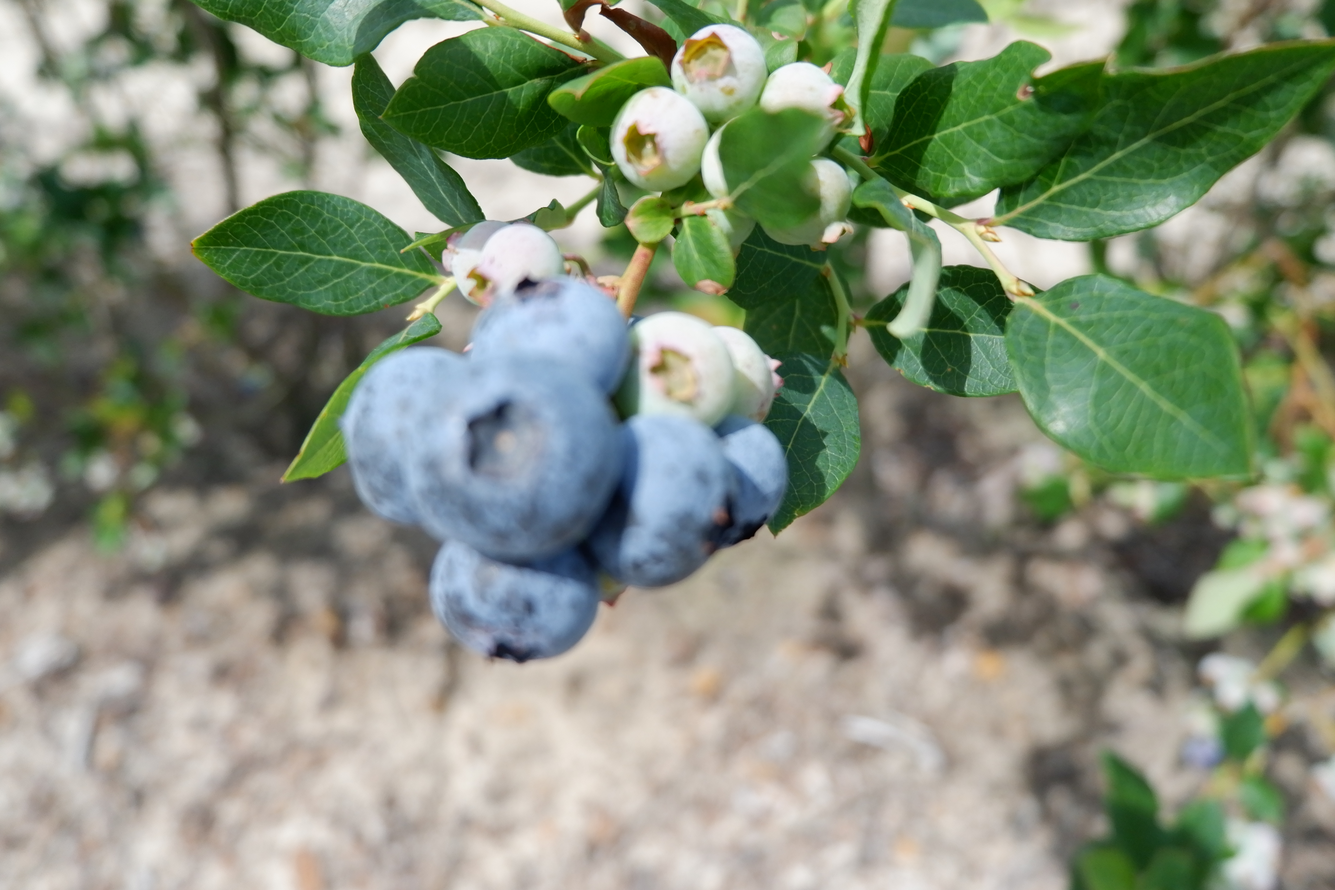Immature: (622, 311, 730, 422), (615, 90, 705, 189), (759, 158, 853, 251), (675, 28, 765, 121), (467, 225, 561, 302), (717, 328, 780, 420), (764, 65, 846, 123), (444, 222, 497, 292), (705, 206, 756, 259), (699, 124, 730, 197)
Mature: (401, 359, 615, 554), (588, 412, 728, 586), (342, 346, 460, 524), (431, 543, 599, 659), (474, 279, 625, 388), (717, 425, 785, 549)
